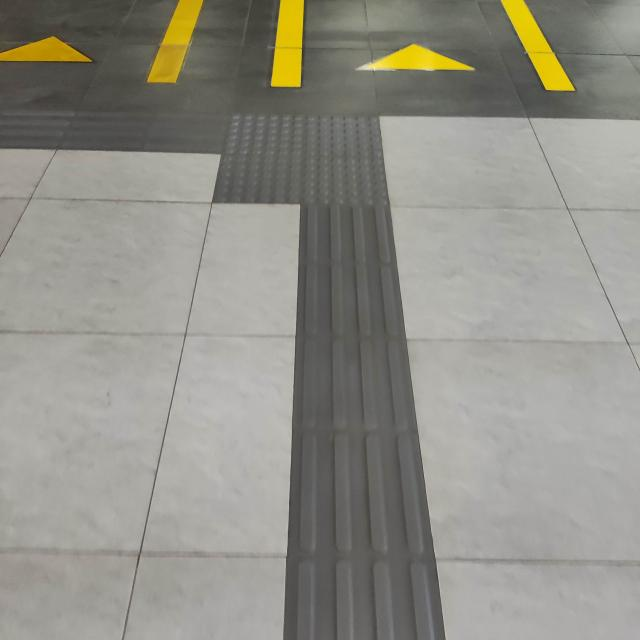kiri: (103, 85, 444, 248)
